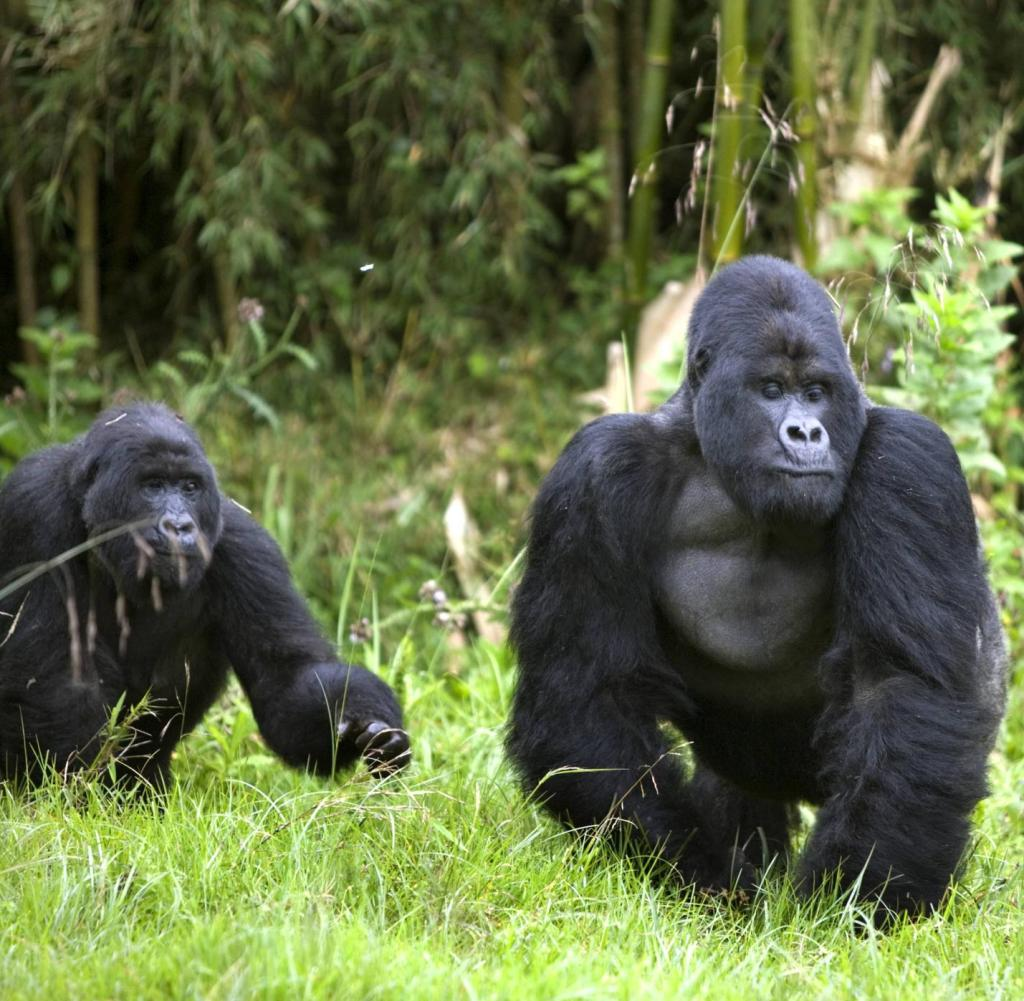Gorilla: (514, 283, 1000, 890), (2, 404, 381, 776)
